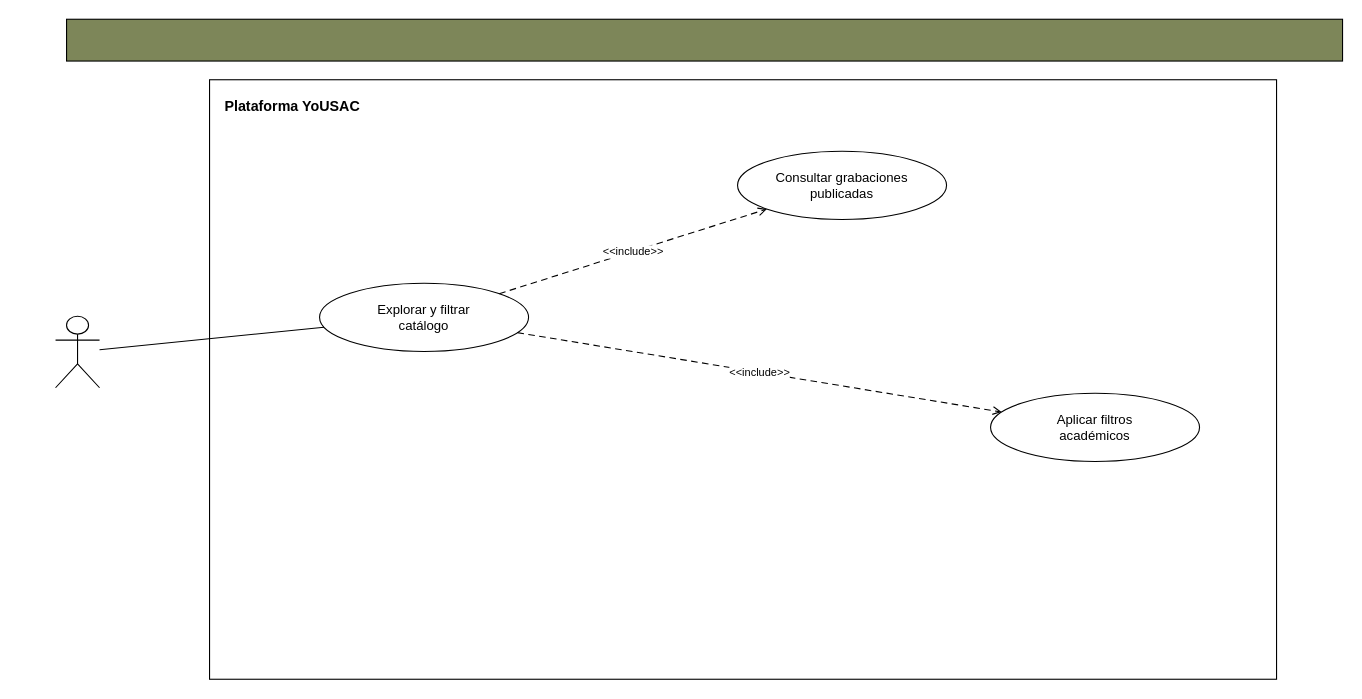
Some shapes in this 1362 by 699 pixel diagram are drawn without their labels. The shapes that lost their labels are listed below. From the top down, each one's box as (x1, y1, x2, y2) in pixels, then its label:
(65, 18, 1343, 61): Plataforma YoUSAC — CU-CA-01 — Explorar y filtrar catálogo
(54, 315, 100, 388): Usuario institucional
